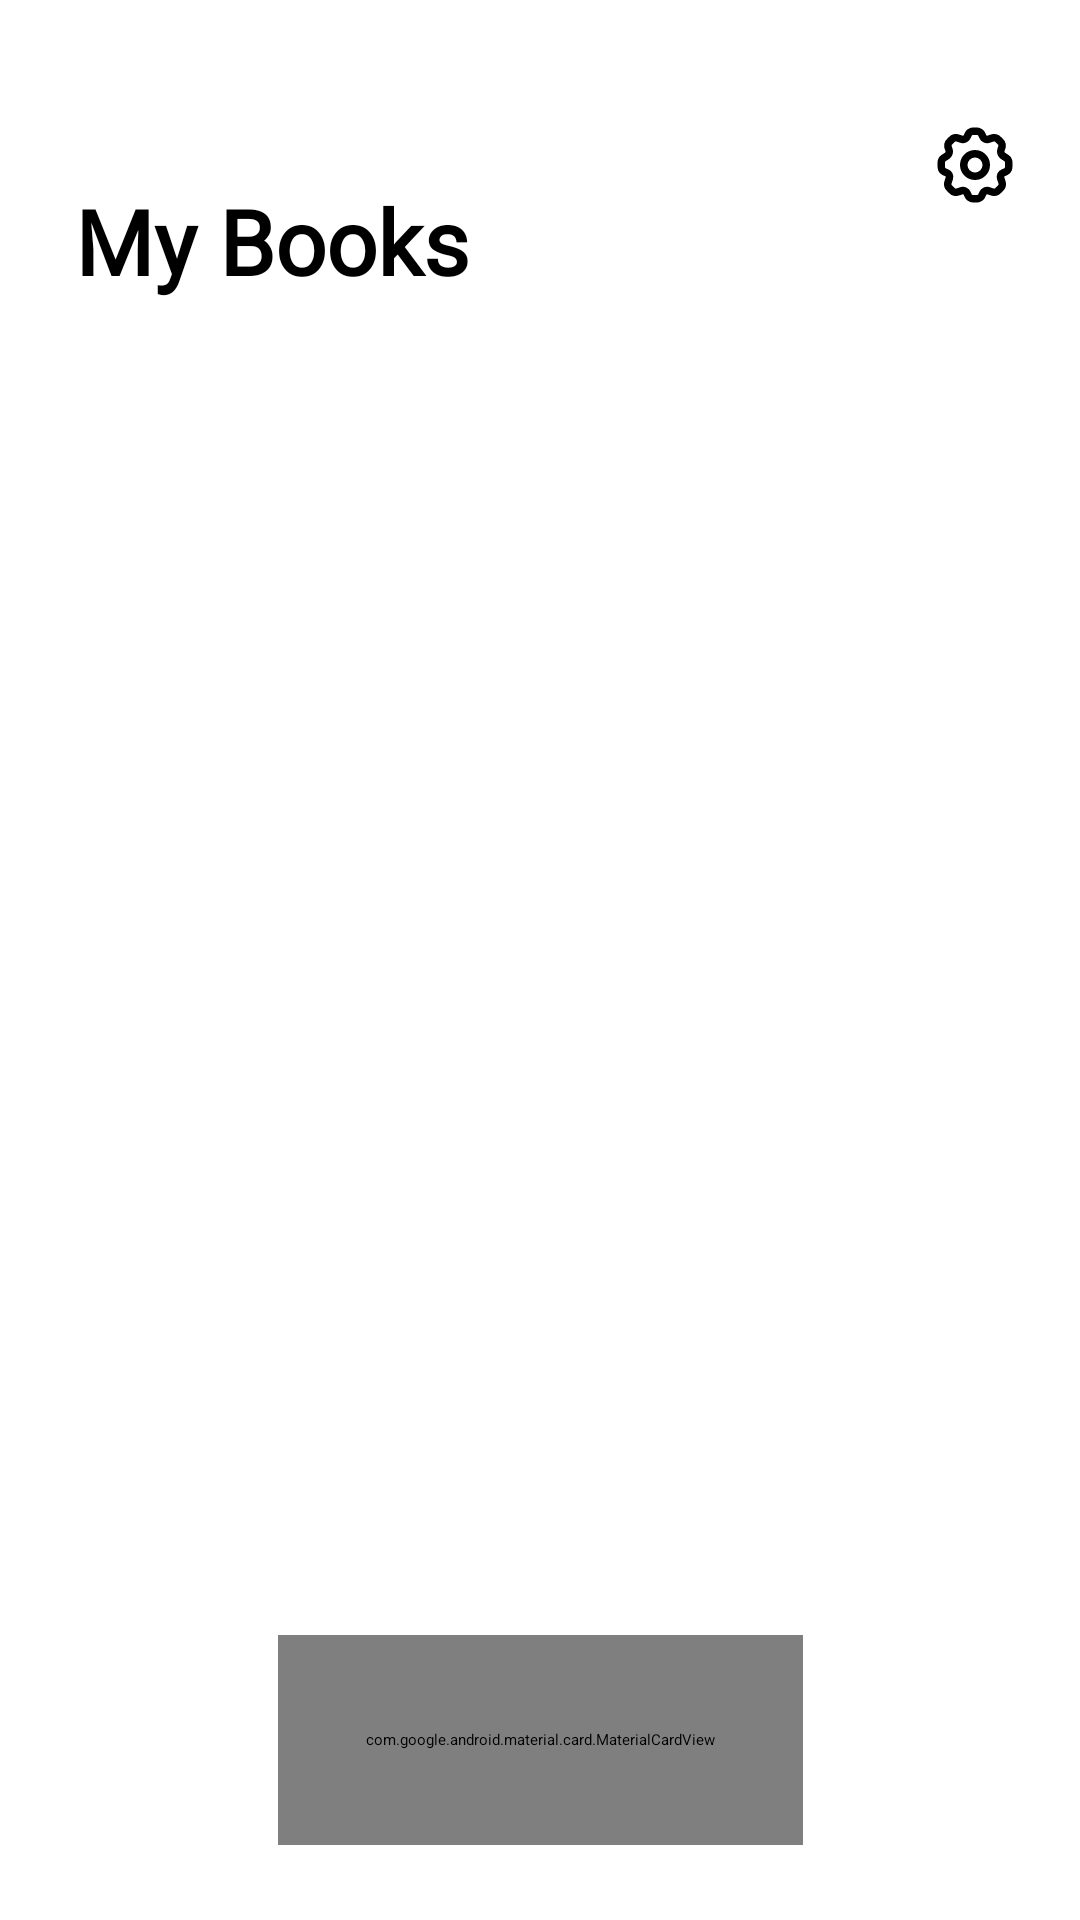

Icon click points for this 1080x1920 phone screenshot, format (x,y):
gear: (975,165)
